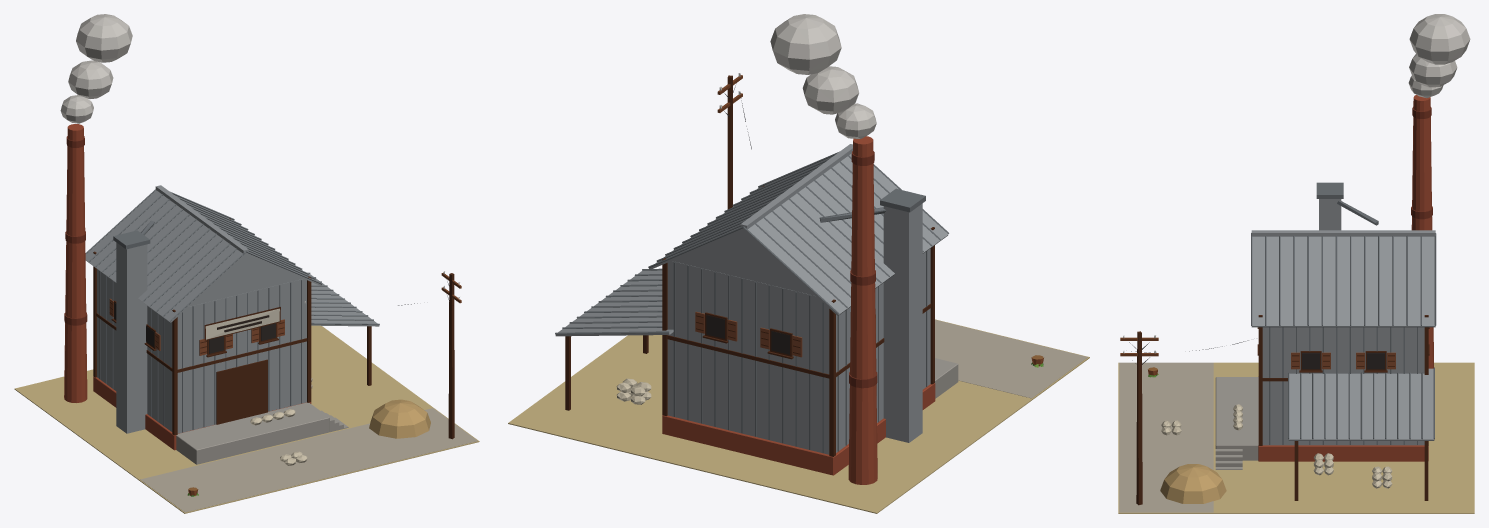
Rendered from factory_3.glb.
The picture shows the model from 3 angles, left to right: view 1: azimuth 30°, elevation 25°; view 2: azimuth 150°, elevation 25°; view 3: azimuth 270°, elevation 25°; orthographic projection. The views are drawn at different scales.
Parts seen in each view (by area): view 1: body, windows; view 2: body, windows; view 3: body, windows.
Part boxes in pixels (x1=…): body: x1=14, y1=14, x2=479, y2=513; windows: x1=114, y1=303, x2=275, y2=353; body: x1=508, y1=14, x2=1089, y2=513; windows: x1=706, y1=315, x2=789, y2=354; body: x1=1118, y1=14, x2=1474, y2=513; windows: x1=1302, y1=353, x2=1384, y2=369.
Size of the model in its own units: 15.9 by 19.2 by 15.9.
